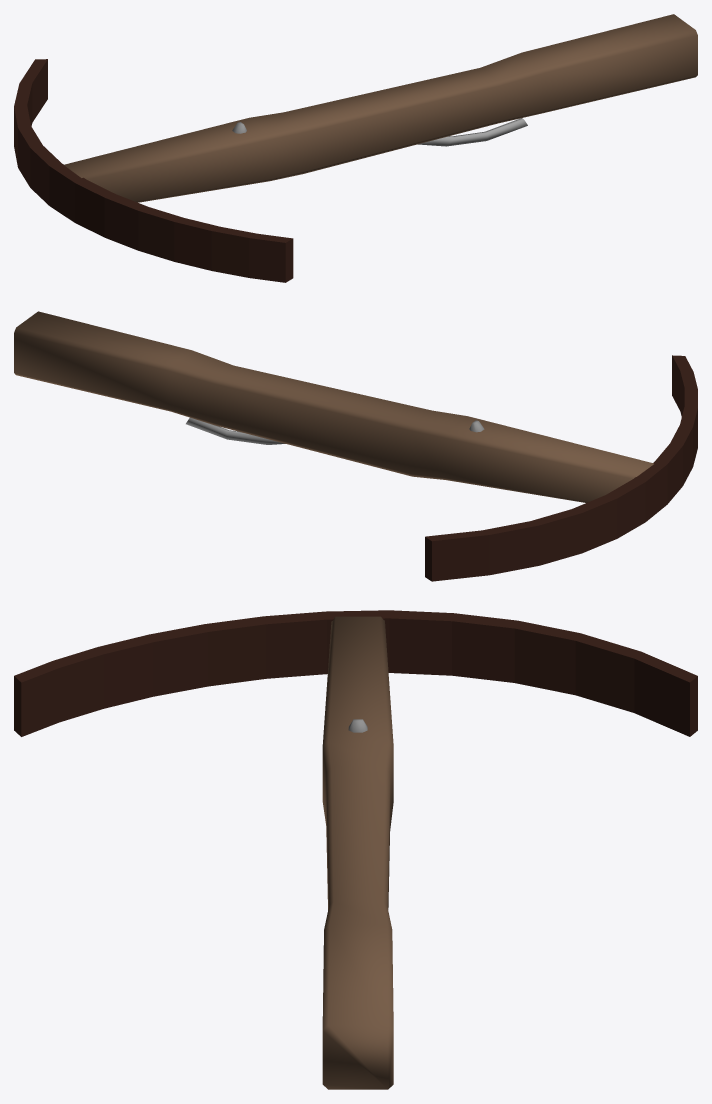
File: Crossbow.fbx
3 renders of one model, top to bottom at view 1: azimuth 30°, elevation 25°; view 2: azimuth 150°, elevation 25°; view 3: azimuth 270°, elevation 25°, orthographic. The views are drawn at different scales.
Visible parts, largest first — view 1: Handle, BowBit, Trigger; view 2: Handle, BowBit, Trigger; view 3: BowBit, Handle.
Boxes of the visible parts, x1=… form: Handle: x1=64, y1=14, x2=697, y2=202; BowBit: x1=14, y1=59, x2=293, y2=282; Trigger: x1=418, y1=118, x2=527, y2=146; Handle: x1=14, y1=311, x2=653, y2=502; BowBit: x1=425, y1=355, x2=697, y2=581; Trigger: x1=186, y1=417, x2=285, y2=444; BowBit: x1=14, y1=610, x2=697, y2=736; Handle: x1=322, y1=616, x2=393, y2=1089.
Size of the model in its own units: 183 by 21.37 by 127.
